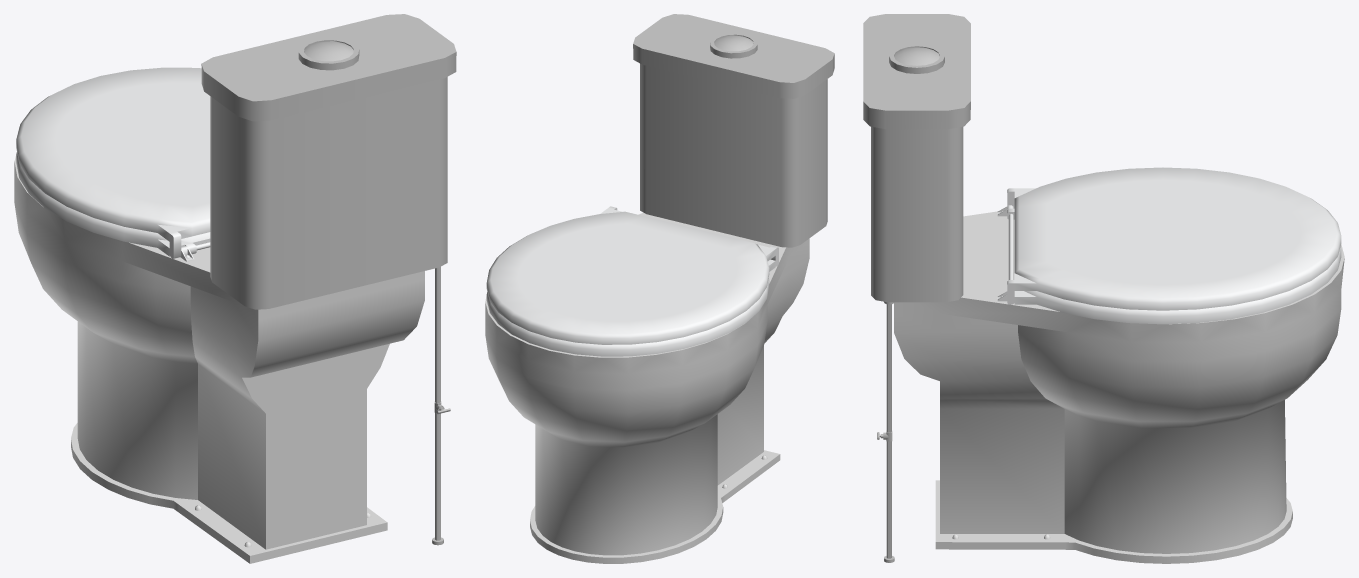
Rendered from Toilet_Elongated_B.fbx.
The picture shows the model from 3 angles, left to right: view 1: azimuth 30°, elevation 25°; view 2: azimuth 150°, elevation 25°; view 3: azimuth 270°, elevation 25°; orthographic projection. The views are drawn at different scales.
Parts seen in each view (by area): view 1: Toilet_Elongated_B, Toilet_Elongated_B_Seat_Cover, Toilet_Elongated_B_Seat; view 2: Toilet_Elongated_B, Toilet_Elongated_B_Seat_Cover, Toilet_Elongated_B_Seat; view 3: Toilet_Elongated_B, Toilet_Elongated_B_Seat_Cover, Toilet_Elongated_B_Seat.
Part boxes in pixels (x1,y1,x2,y2): Toilet_Elongated_B: [14, 14, 456, 563]; Toilet_Elongated_B_Seat_Cover: [16, 67, 210, 258]; Toilet_Elongated_B_Seat: [16, 152, 210, 261]; Toilet_Elongated_B: [485, 14, 834, 563]; Toilet_Elongated_B_Seat_Cover: [486, 206, 778, 344]; Toilet_Elongated_B_Seat: [486, 259, 775, 356]; Toilet_Elongated_B: [863, 14, 1344, 563]; Toilet_Elongated_B_Seat_Cover: [1007, 167, 1341, 310]; Toilet_Elongated_B_Seat: [997, 205, 1341, 324].
Size of the model in its own units: 0.4191 by 0.6344 by 0.6775.
